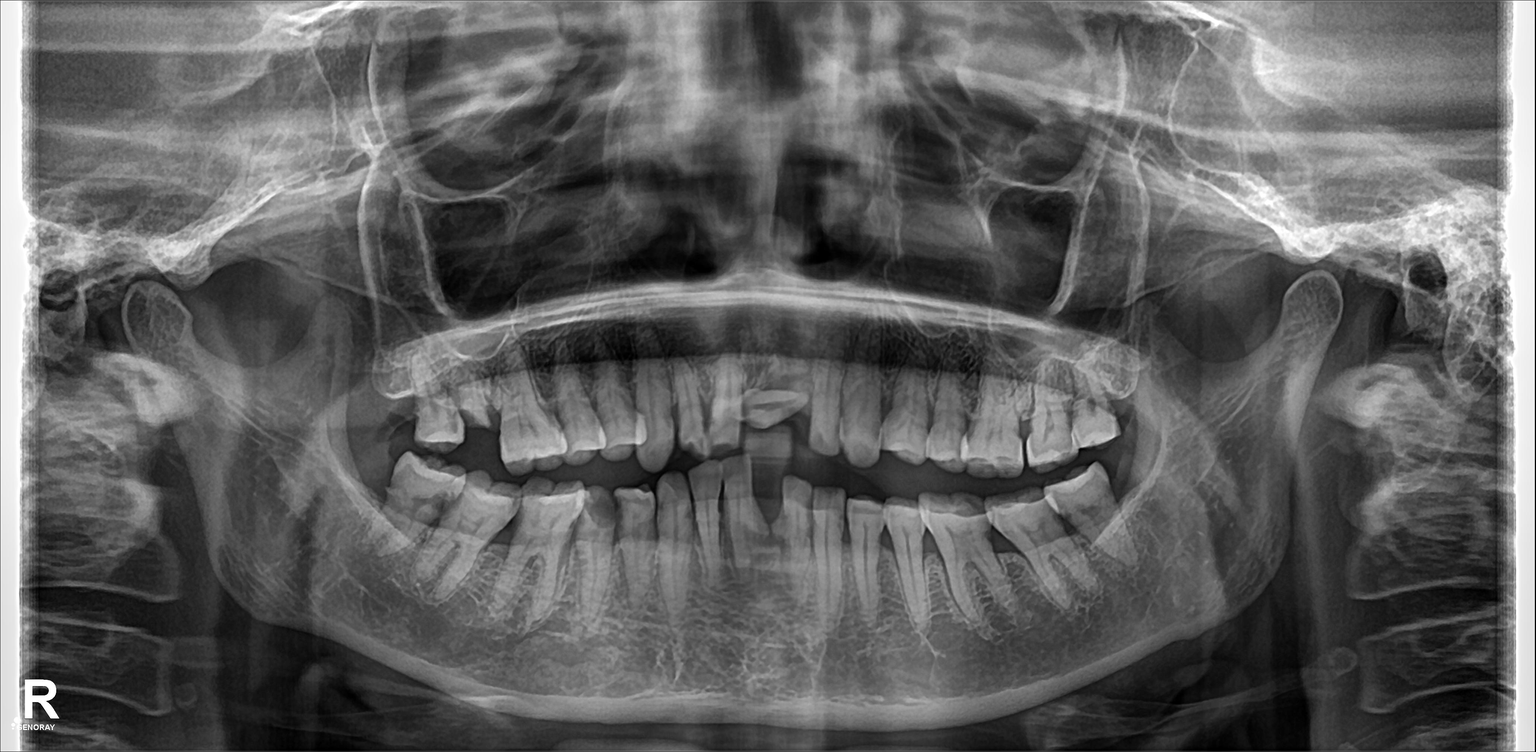Dental Caries: (588, 495, 621, 539)
Missing Tooth: (361, 369, 416, 439), (359, 452, 392, 514)
Retained Root: (453, 382, 501, 460)
